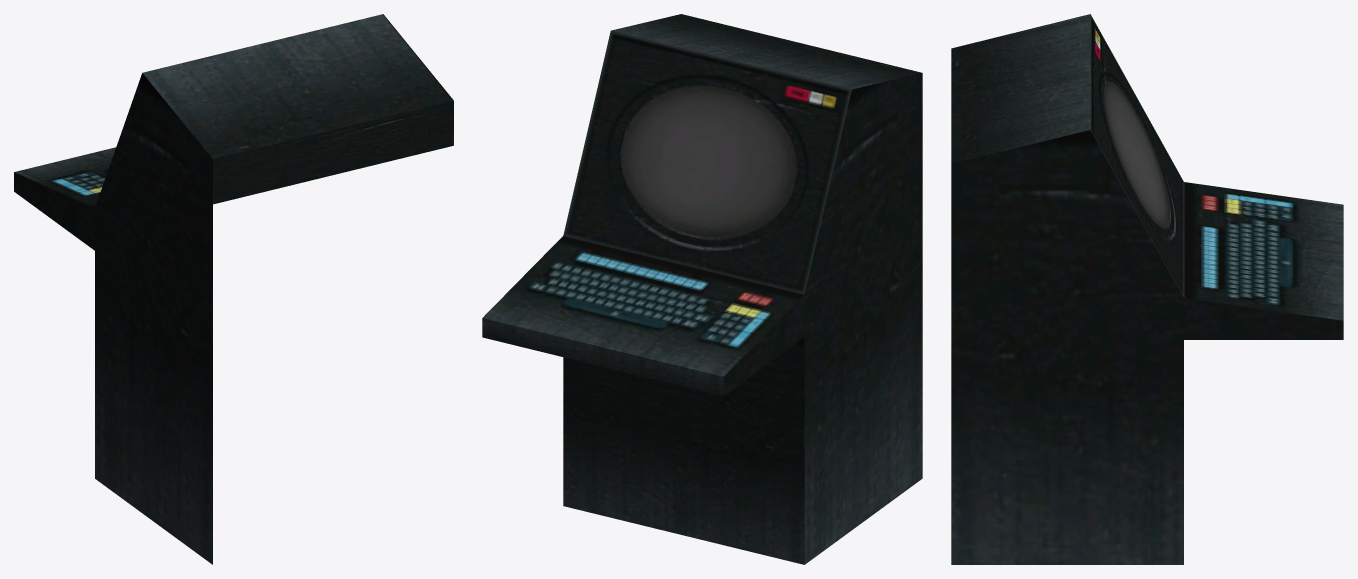
File: CONTROL_TOWER_RADAR03.glb
The picture shows the model from 3 angles, left to right: view 1: azimuth 30°, elevation 25°; view 2: azimuth 150°, elevation 25°; view 3: azimuth 270°, elevation 25°; orthographic projection.
Parts seen in each view (by area): view 1: CONTROL_TOWER_RADAR03; view 2: CONTROL_TOWER_RADAR03; view 3: CONTROL_TOWER_RADAR03.
Part boxes in pixels (x1,y1,x2,y2): CONTROL_TOWER_RADAR03: (14, 14, 453, 564); CONTROL_TOWER_RADAR03: (482, 14, 922, 564); CONTROL_TOWER_RADAR03: (951, 14, 1343, 564).
Size of the model in its own units: 0.7 by 1.22 by 1.
Materials: 1 (1 with a texture image).
